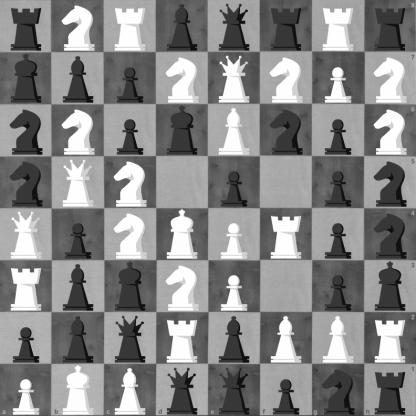B: (104, 364, 156, 416), (209, 105, 260, 156), (261, 313, 312, 364), (313, 313, 364, 364)
K: (52, 364, 104, 416), (157, 209, 208, 260)
N: (364, 52, 416, 104), (364, 104, 416, 156), (53, 1, 104, 52), (53, 105, 104, 156), (105, 157, 156, 208), (105, 209, 156, 260), (157, 53, 208, 104), (157, 261, 208, 312), (261, 53, 312, 104)
P: (0, 364, 52, 416), (209, 209, 260, 260), (209, 261, 260, 312), (313, 53, 364, 104)
Q: (1, 209, 52, 260), (53, 157, 104, 208), (209, 53, 260, 104)
R: (364, 312, 416, 364), (1, 261, 52, 312), (105, 1, 156, 52), (157, 313, 208, 364), (261, 209, 312, 260), (313, 1, 364, 52)
b: (53, 53, 104, 104), (53, 261, 104, 312), (53, 313, 104, 364), (157, 1, 208, 52), (209, 313, 260, 364)
board: (0, 0, 415, 415)
k: (364, 260, 416, 312), (1, 53, 52, 104), (105, 261, 156, 312), (157, 105, 208, 156)
n: (364, 156, 416, 209), (312, 364, 364, 416), (364, 209, 416, 260), (1, 105, 52, 156), (1, 157, 52, 208), (261, 105, 312, 156)
p: (260, 364, 312, 416), (1, 313, 52, 364), (53, 209, 104, 260), (105, 53, 156, 104), (105, 105, 156, 156), (209, 157, 260, 208), (313, 105, 364, 156), (313, 157, 364, 208), (313, 209, 364, 260), (313, 261, 364, 312)
q: (156, 364, 209, 416), (209, 364, 260, 416), (105, 313, 156, 364), (209, 1, 260, 52)
r: (364, 0, 416, 52), (364, 364, 416, 416), (1, 1, 52, 52), (261, 1, 312, 52)
